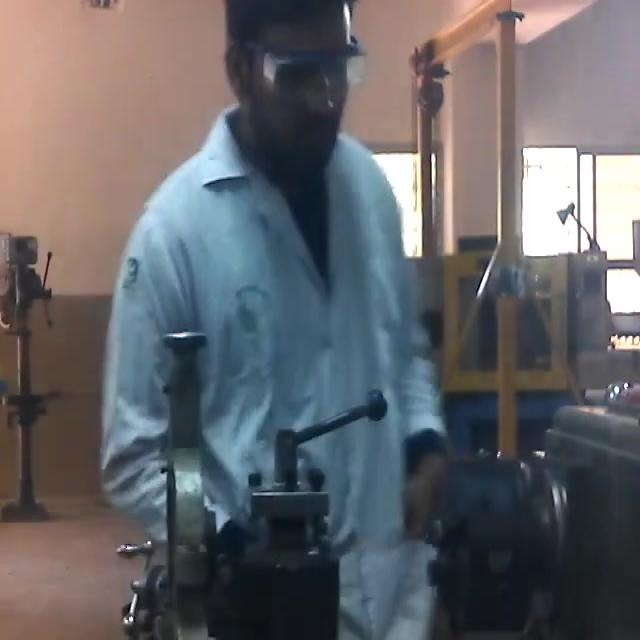googles: (230, 32, 374, 98)
labcoat: (96, 104, 452, 640)
